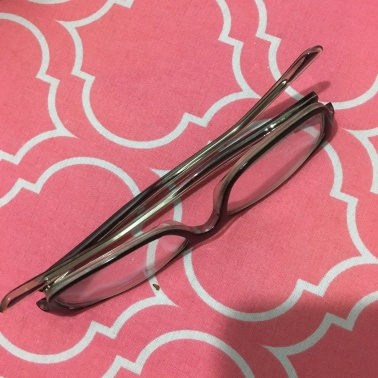glasses: (41, 51, 335, 325)
